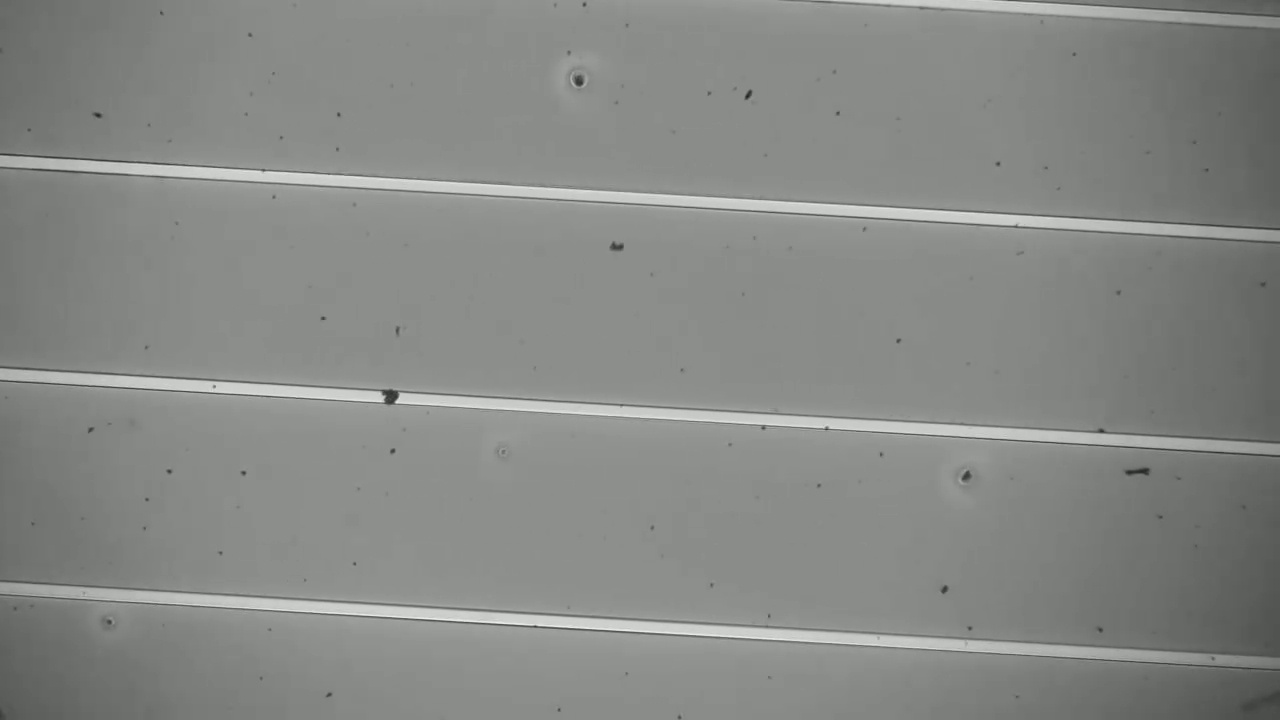stains_enbedded: (371, 381, 407, 410)
